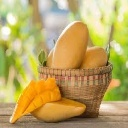mango: (50, 19, 89, 75)
